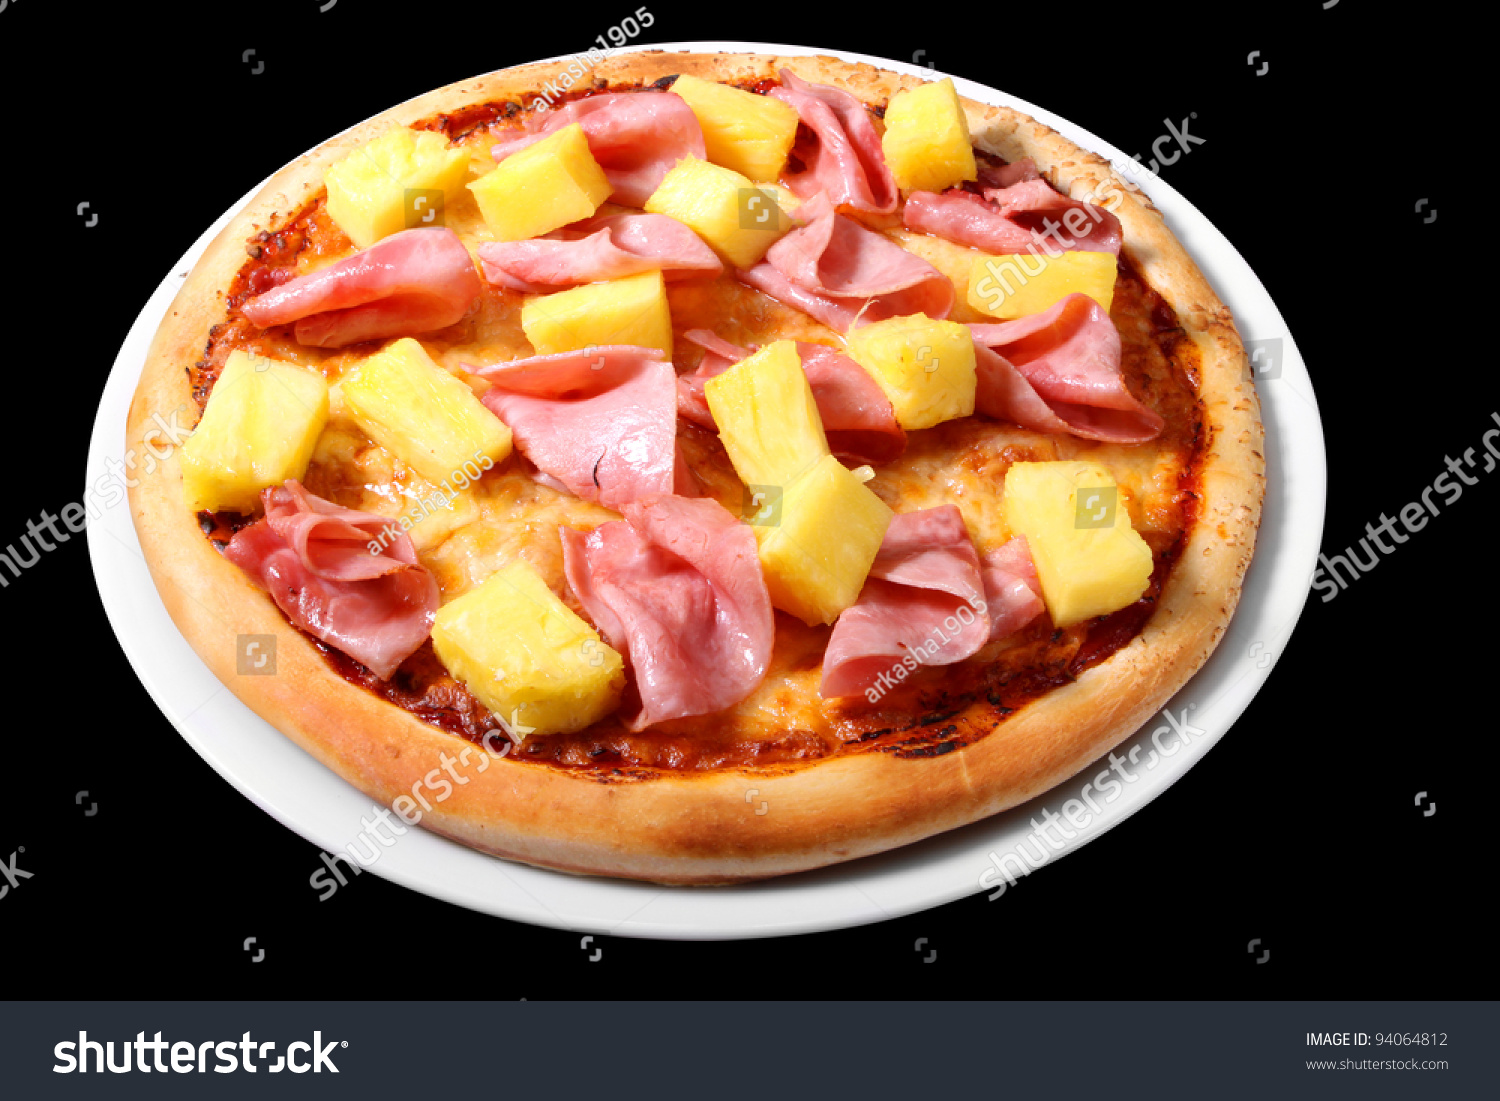Ham: (565, 501, 781, 728), (818, 502, 985, 703), (232, 527, 431, 672), (974, 299, 1162, 445), (489, 351, 688, 487), (240, 232, 481, 333), (738, 219, 960, 325), (540, 92, 708, 207), (487, 216, 730, 291), (893, 183, 1128, 261), (842, 317, 974, 440), (778, 84, 890, 216)
Pineapple: (431, 574, 624, 740), (333, 343, 517, 485), (750, 454, 898, 620), (184, 357, 330, 510), (1010, 467, 1151, 620), (705, 345, 826, 481), (649, 160, 798, 266), (475, 121, 607, 241), (317, 135, 475, 233), (518, 271, 678, 367), (668, 72, 804, 176), (957, 255, 1117, 327), (887, 86, 974, 185)
Pizza: (123, 45, 1267, 883)
